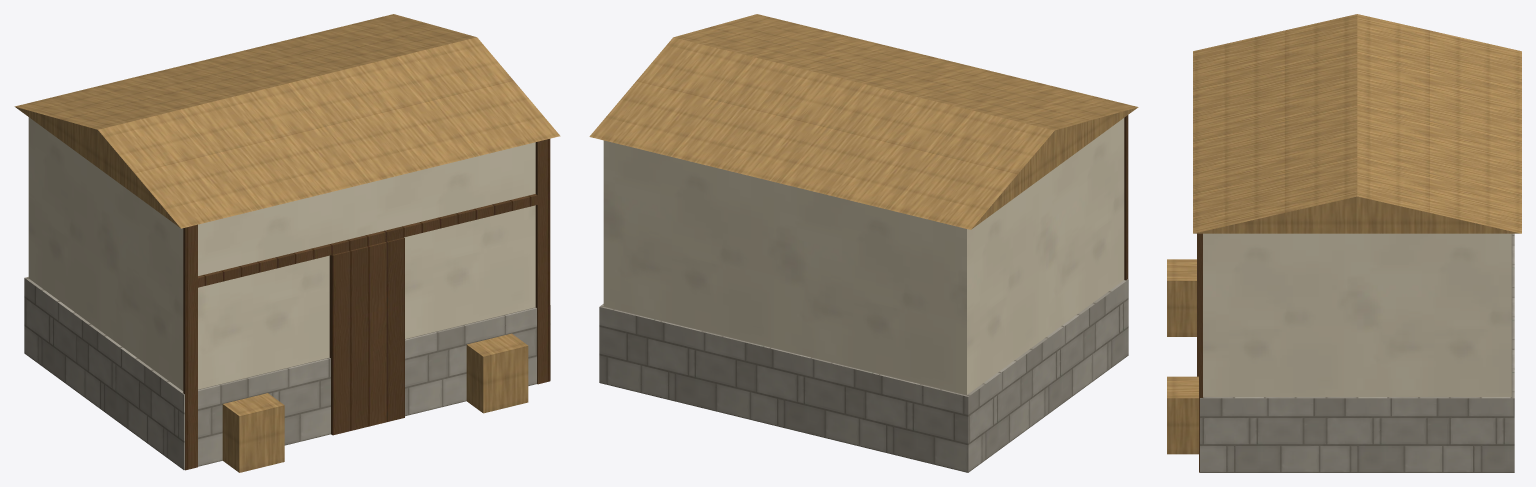
File: wing.staking.glb
3 renders of one model, left to right at view 1: azimuth 30°, elevation 25°; view 2: azimuth 150°, elevation 25°; view 3: azimuth 270°, elevation 25°, orthographic. The views are drawn at different scales.
Parts seen in each view (by area): view 1: castle.wing.staking; view 2: castle.wing.staking; view 3: castle.wing.staking.
Part boxes in pixels (left/top/right/bottom): castle.wing.staking: left=14, top=14, right=560, bottom=472; castle.wing.staking: left=589, top=14, right=1138, bottom=472; castle.wing.staking: left=1167, top=14, right=1521, bottom=472.
Size of the model in its own units: 4.2 by 3 by 3.45.
Materials: 4 (4 with a texture image).
